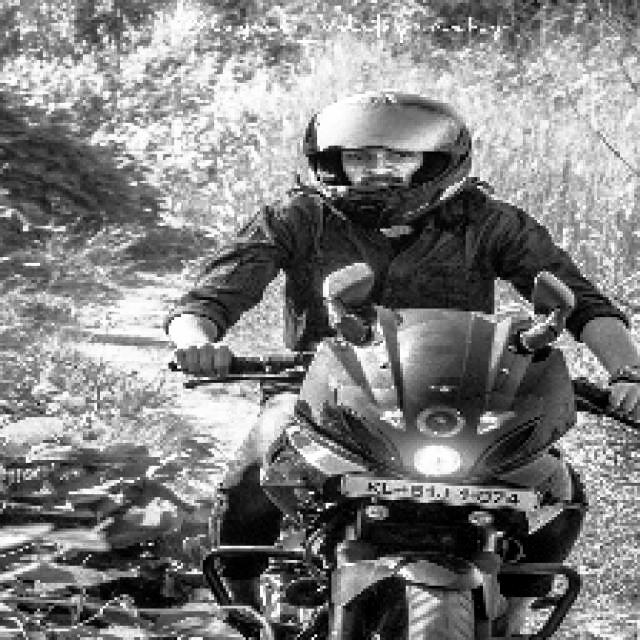Bike: (233, 308, 607, 639)
